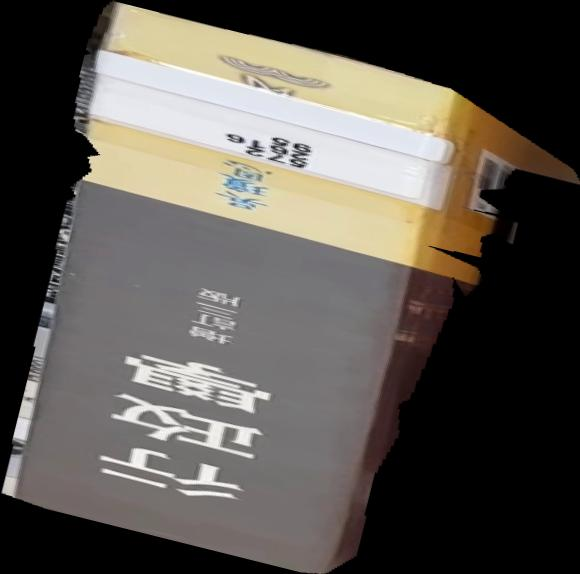reverse: (1, 1, 580, 574)
